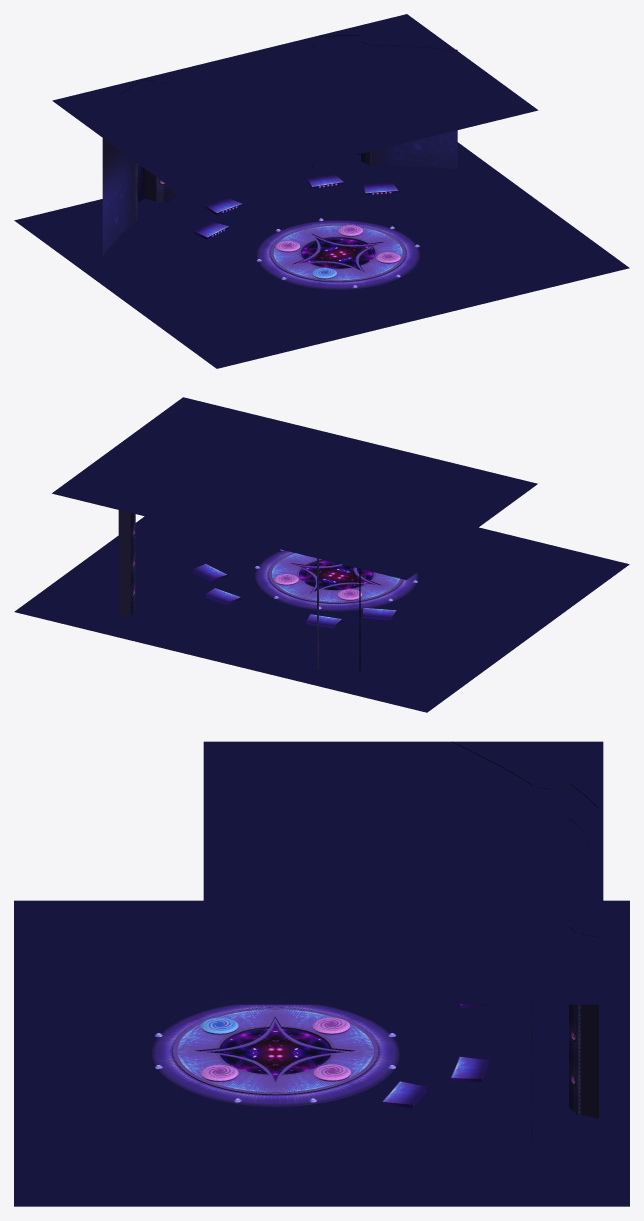
Rendered from Room_modify_test.FBX.
The picture shows the model from 3 angles, top to bottom: view 1: azimuth 30°, elevation 25°; view 2: azimuth 150°, elevation 25°; view 3: azimuth 270°, elevation 25°; orthographic projection. The views are drawn at different scales.
Parts seen in each view (by area): view 1: sm_room_modify_test02, sm_room_modify_test03, sm_room_modify_test01; view 2: sm_room_modify_test02, sm_room_modify_test03, sm_room_modify_test01; view 3: sm_room_modify_test02, sm_room_modify_test03, sm_room_modify_test01, 04, 03.
Boxes of the visible parts, x1,y1,x2,y2 form: sm_room_modify_test02: (14,14,629,368); sm_room_modify_test03: (256,218,419,289); sm_room_modify_test01: (102,35,457,255); sm_room_modify_test02: (14,397,629,712); sm_room_modify_test03: (254,549,418,611); sm_room_modify_test01: (118,491,360,671); sm_room_modify_test02: (14,741,629,1206); sm_room_modify_test03: (151,1004,399,1106); sm_room_modify_test01: (452,741,598,1141); 04: (382,1081,427,1107); 03: (450,1056,489,1082).
Size of the model in its own units: 22.52 by 6.27 by 19.16.
